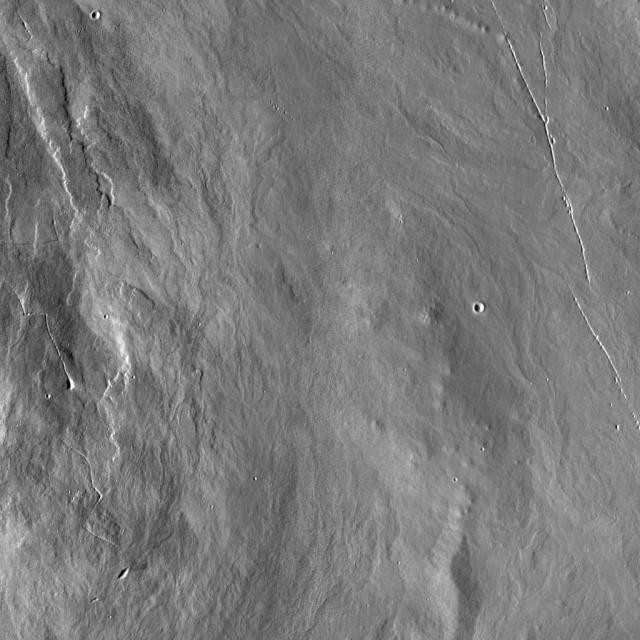crater: (477, 298, 489, 310), (96, 10, 104, 19)
